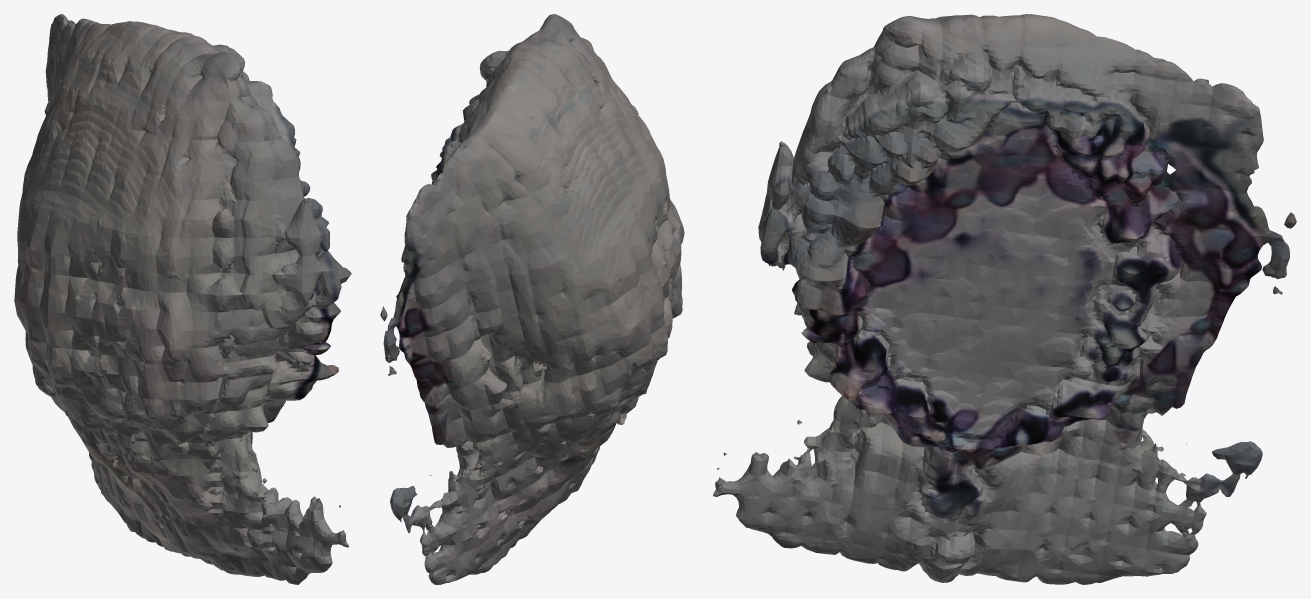
The model's file is vine_noose.glb.
3 views of the same model, side by side, from view 1: azimuth 30°, elevation 25°; view 2: azimuth 150°, elevation 25°; view 3: azimuth 270°, elevation 25° (orthographic). The views are drawn at different scales.
Parts seen in each view (by area): view 1: world; view 2: world; view 3: world.
Boxes of the visible parts, bbox=[...] form: world: bbox=[14, 14, 351, 584]; world: bbox=[380, 14, 684, 584]; world: bbox=[713, 14, 1296, 584].
Size of the model in its own units: 0.5507 by 1.2 by 1.11.
1 material, 1 textured.
